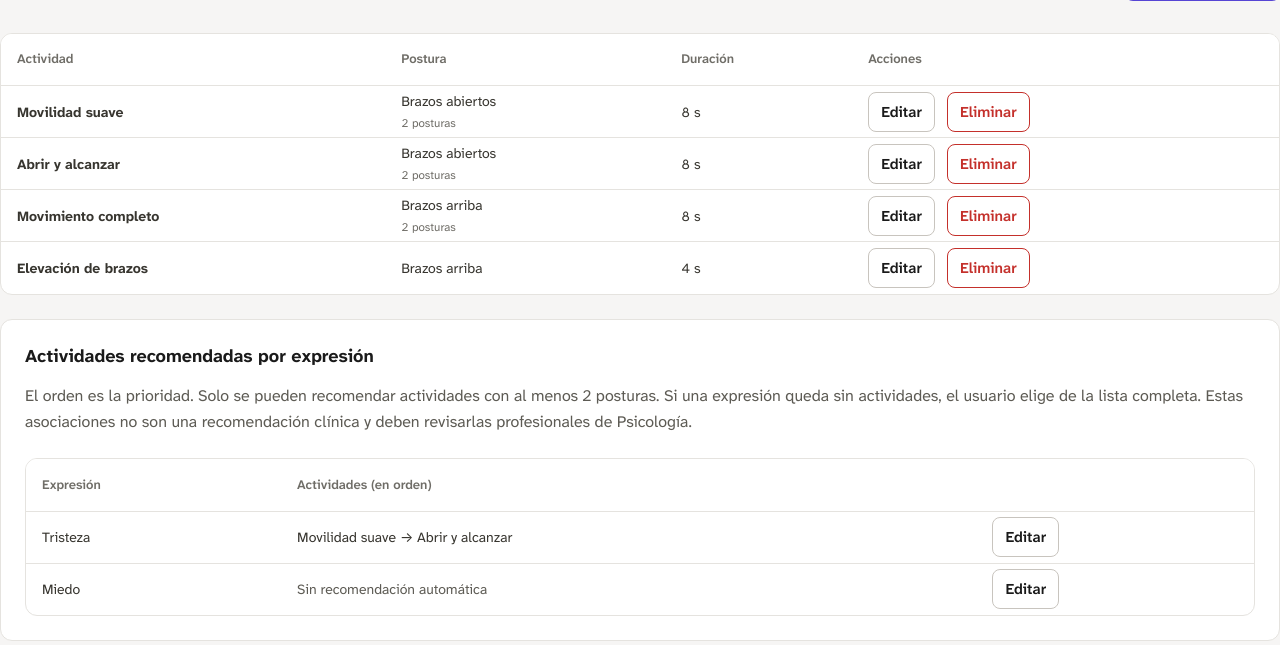
Scenario: administración de recomendaciones › muestra el motivo si la API rechaza la asociación
Click the button named "Editar recomendaciones de Miedo" at (1026, 589), box [992,569,1059,609]
(page scrolled)
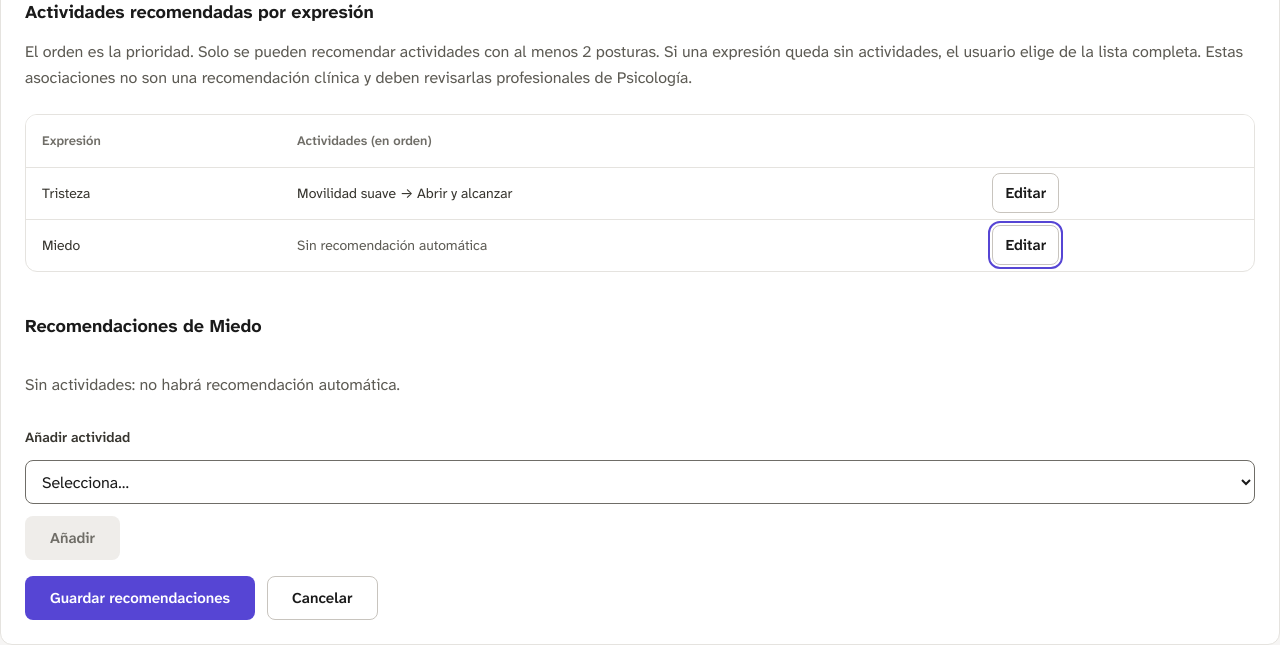
Click the button "Guardar recomendaciones" at (140, 598), box [25,576,255,620]
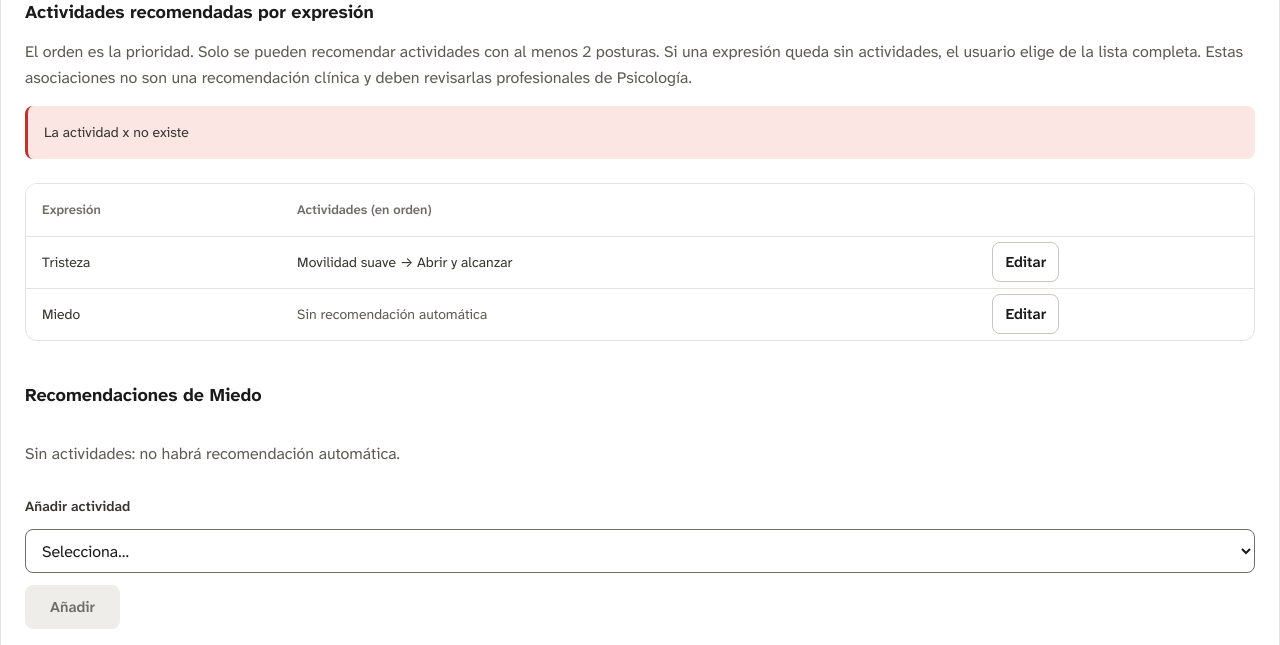
Check: the message reads "La actividad x no existe", box [44,123,189,141]
